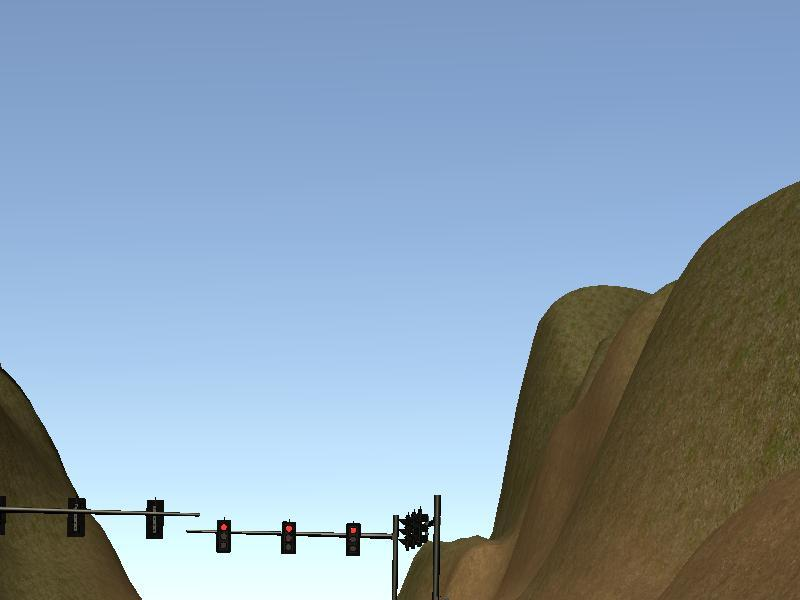Red: (281, 521, 297, 554), (345, 522, 360, 555), (217, 519, 231, 553)
